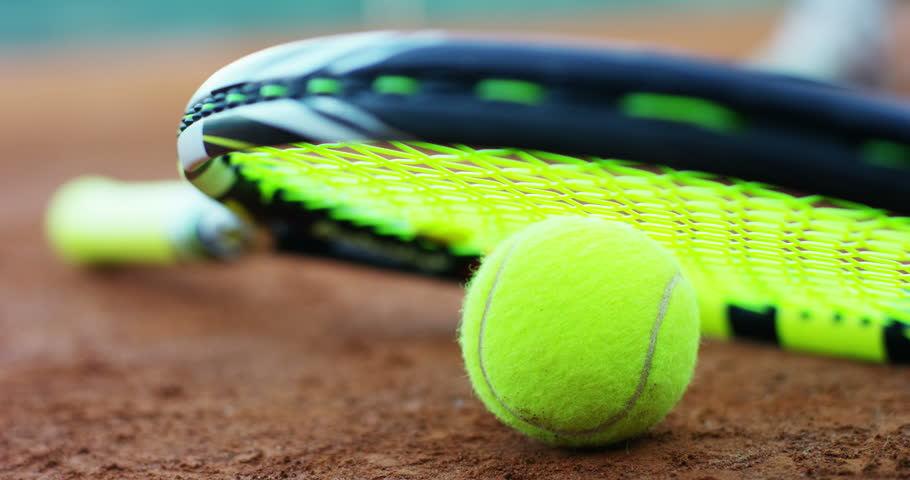tennis_ball: (456, 211, 701, 448)
